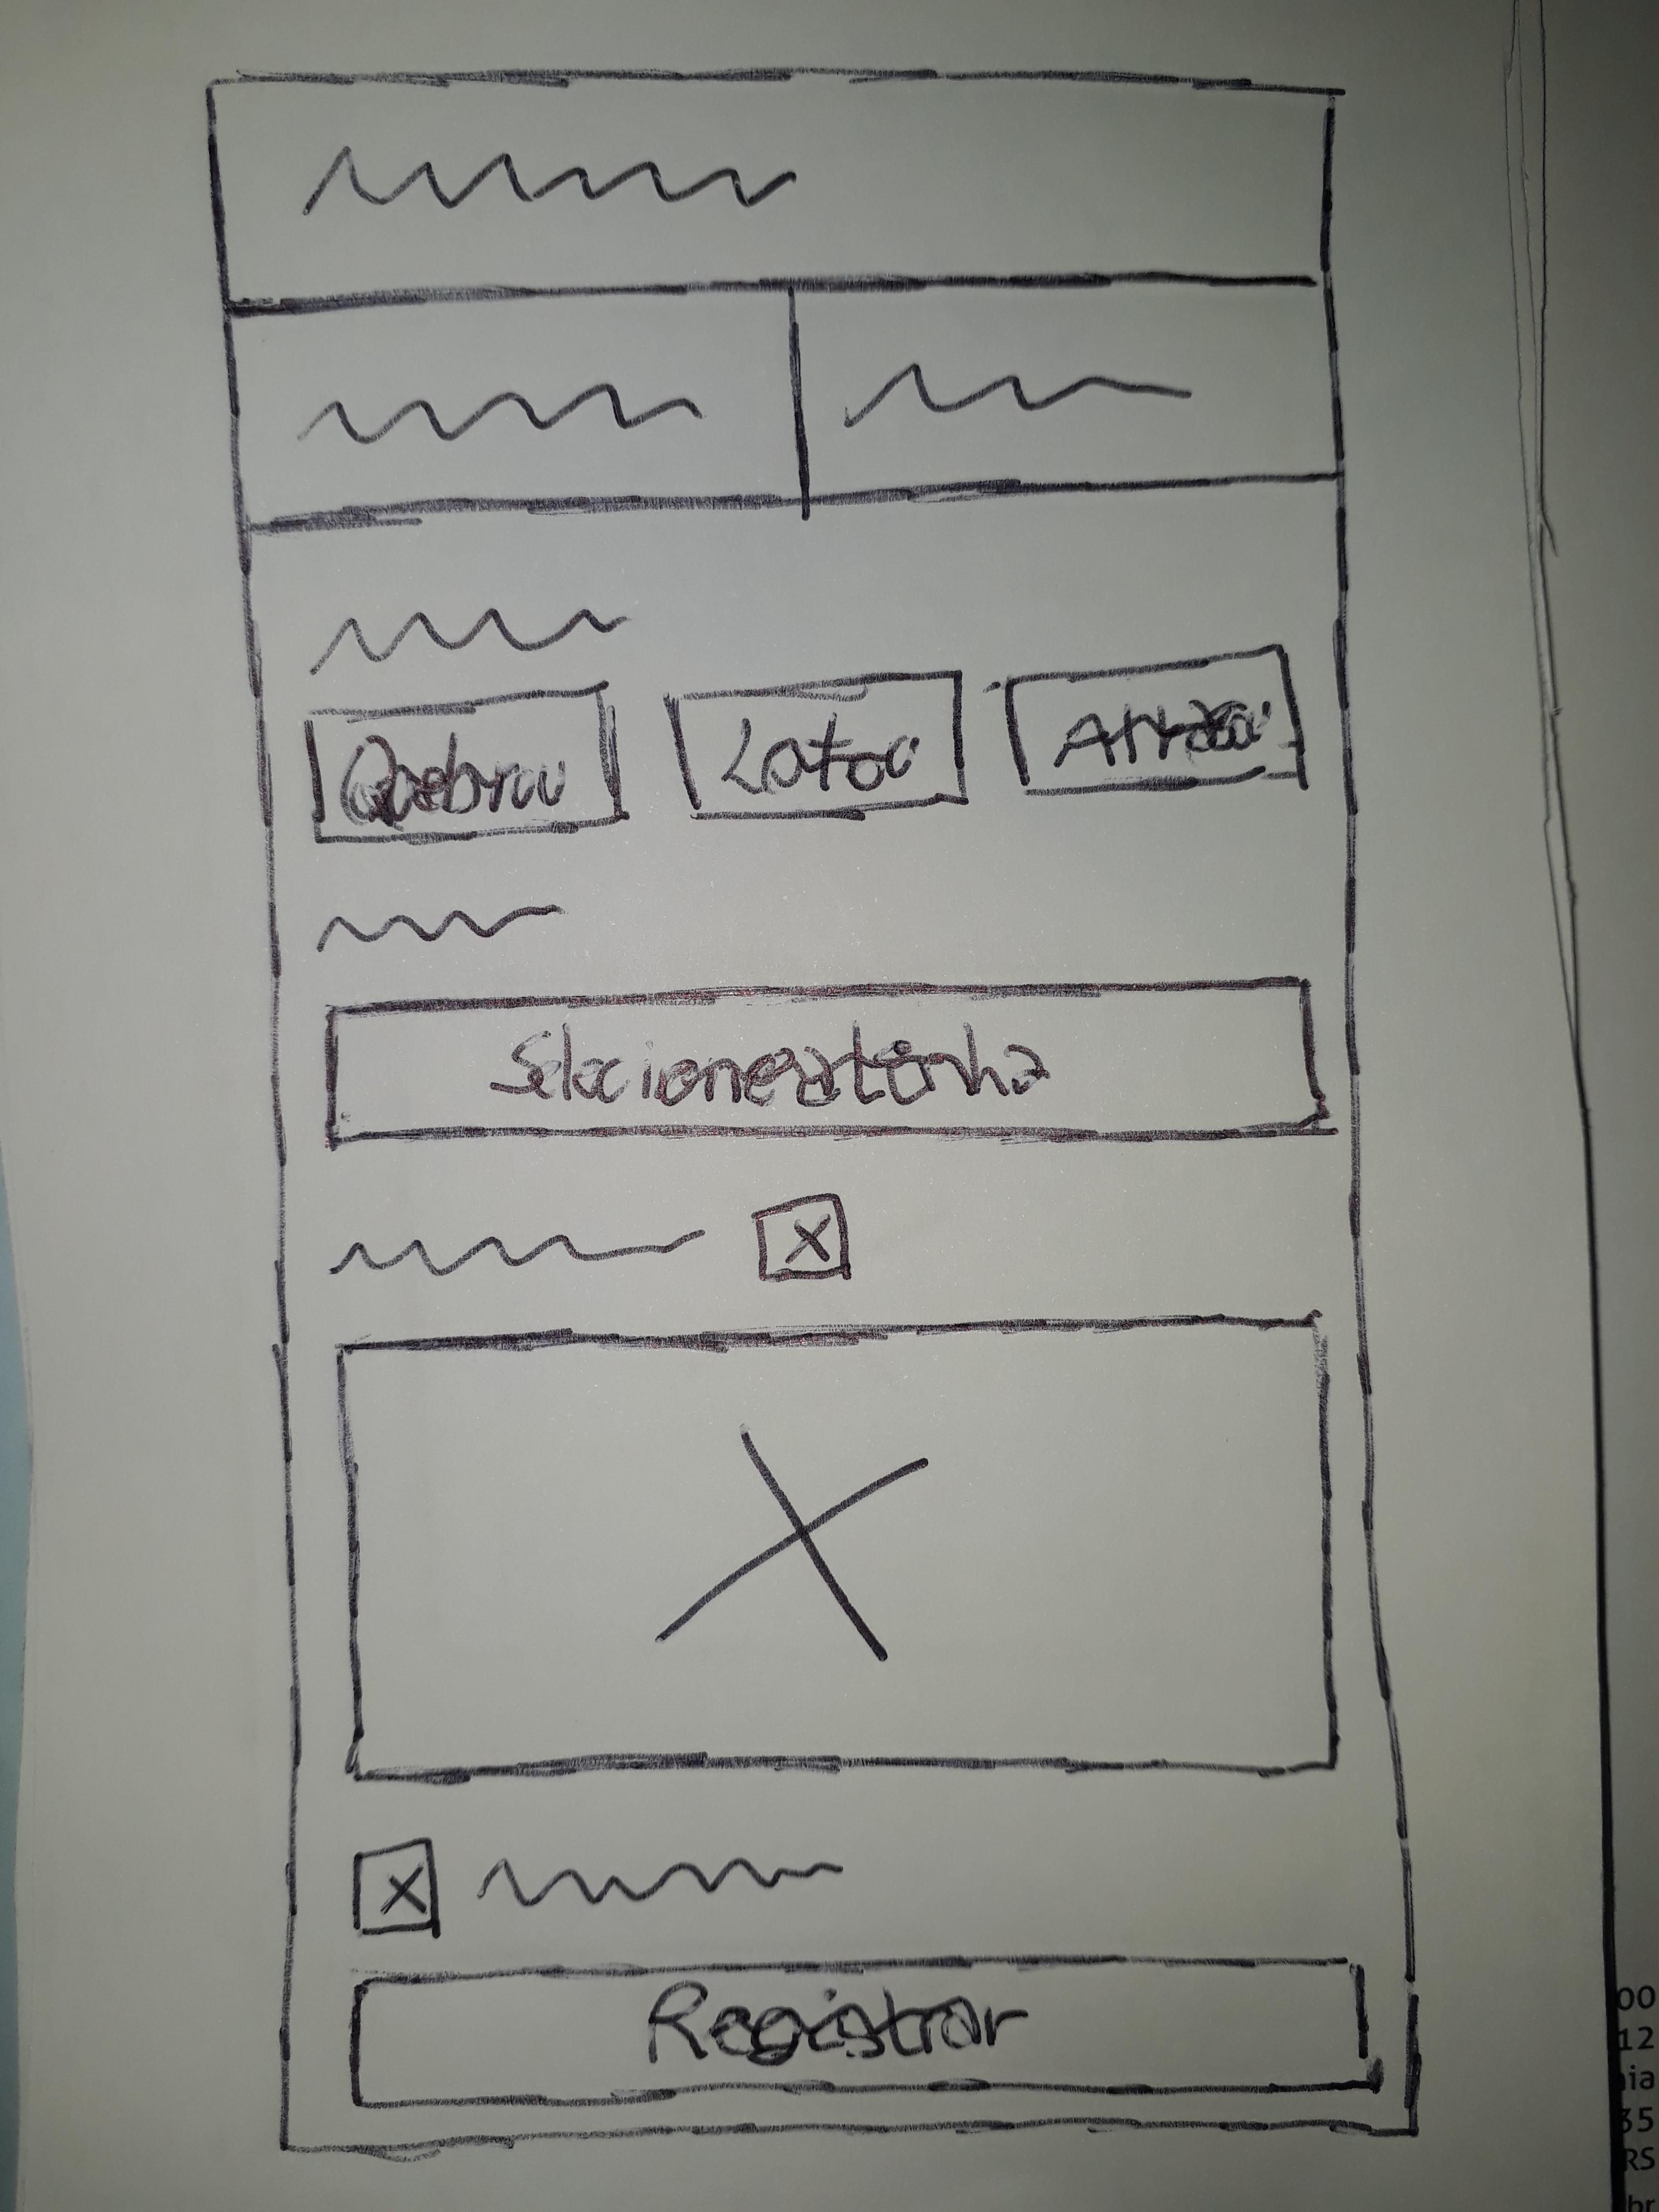Button: (326, 979, 1331, 1146), (345, 1958, 1384, 2111), (303, 690, 627, 846), (1000, 641, 1303, 796), (660, 667, 962, 822)
CheckBox: (349, 1836, 852, 1939), (749, 1186, 852, 1282)
Image: (343, 1317, 1337, 1785)
Label: (291, 138, 809, 230), (295, 381, 704, 449), (845, 361, 1197, 425), (312, 603, 627, 672), (328, 1228, 709, 1277), (315, 904, 565, 954)
Screen: (204, 63, 1422, 2151)
